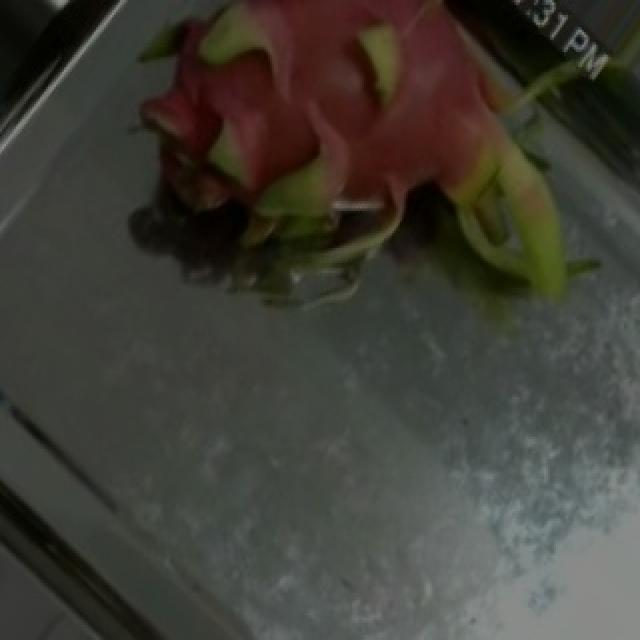fruit: (230, 0, 640, 384)
